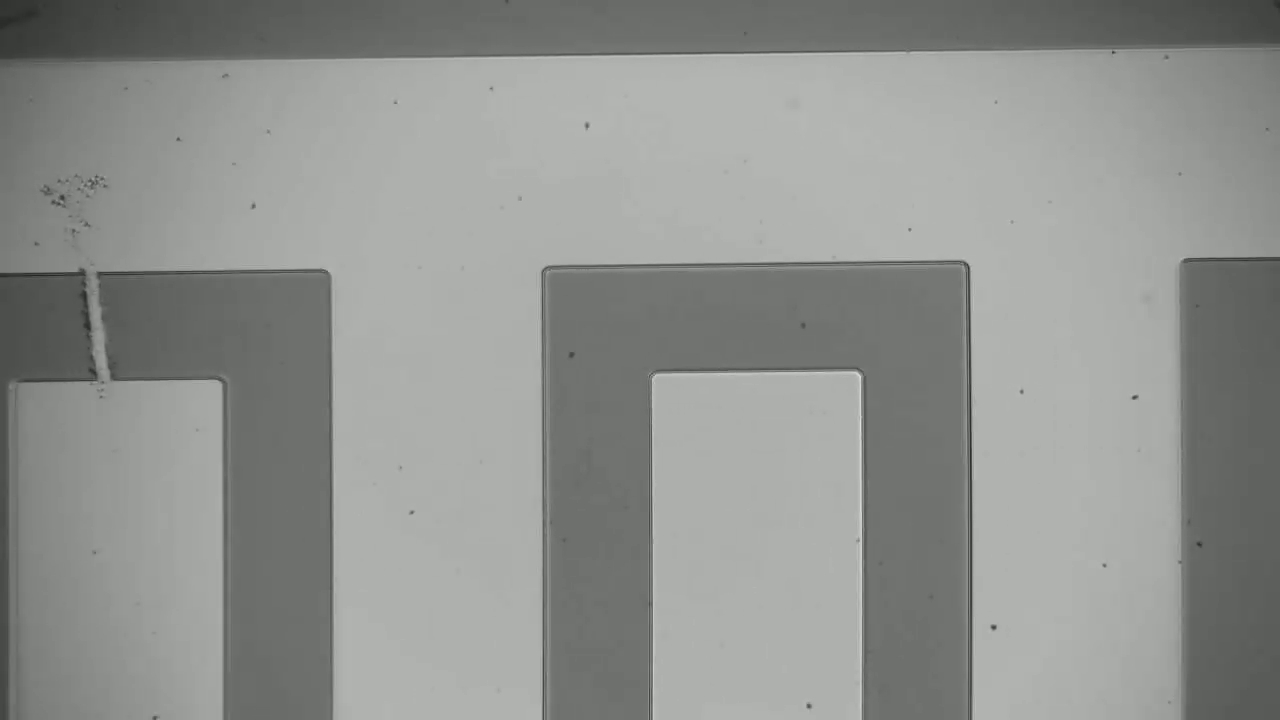Short_circuit: (54, 241, 134, 402)
